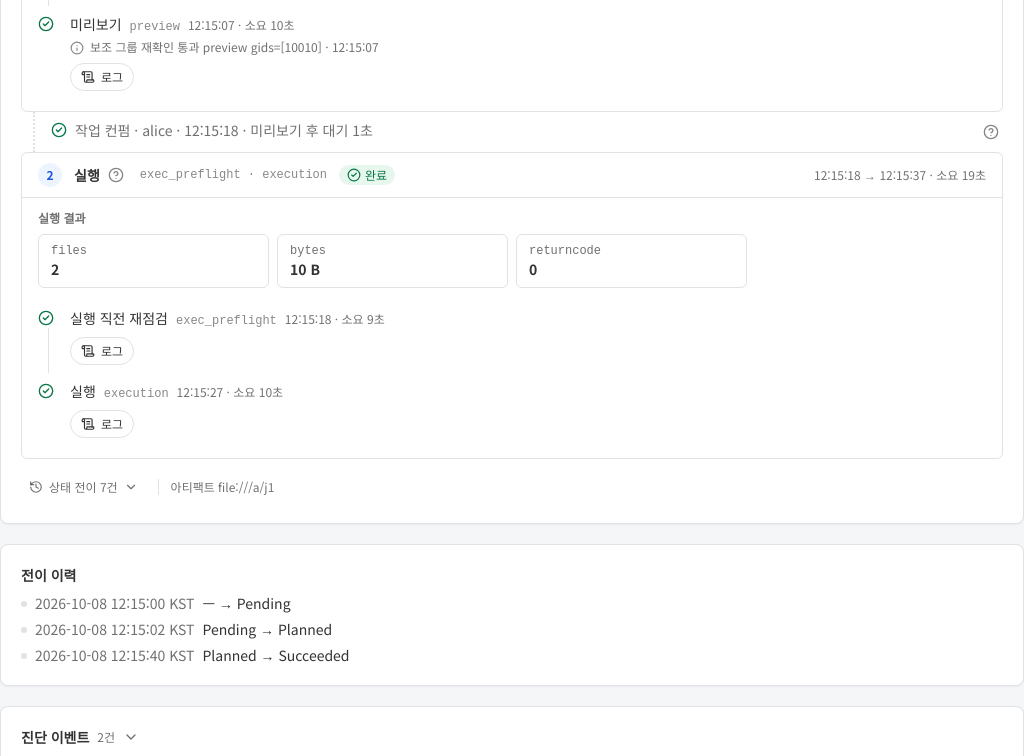
16 주석: 이 잡의 phase 이벤트는 ① 미리보기 행에, 다른 잡 것은 안 붙고, 정보뿐인 진단 카드는 접힌다
(page scrolled)
Expected: the text "보조 그룹 재확인 통과 preview gids=[10010] · 12:15:07" is shown, [90,39,379,55]
Click the button "진단 이벤트 2건" at (80, 737), box [21,727,139,747]
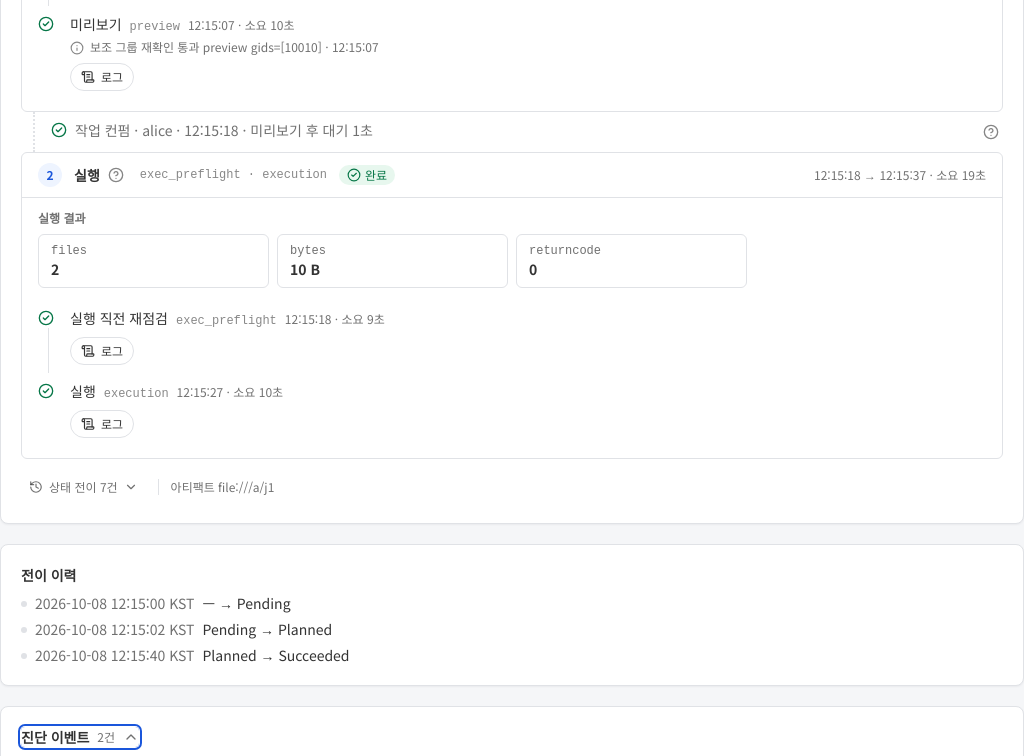
Expected: the button "진단 이벤트 2건" is expanded, [21,727,139,747]
